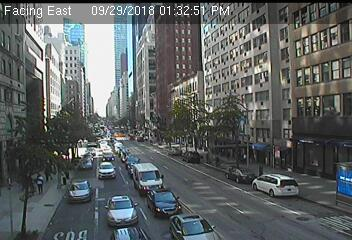car: (169, 214, 221, 240), (252, 174, 300, 198), (106, 195, 140, 226), (147, 190, 182, 216), (132, 163, 163, 192), (226, 166, 256, 185), (68, 179, 91, 203), (112, 227, 146, 240), (96, 162, 116, 179), (125, 154, 140, 170), (181, 151, 200, 163), (80, 157, 93, 169), (167, 148, 182, 156), (103, 152, 114, 162)
